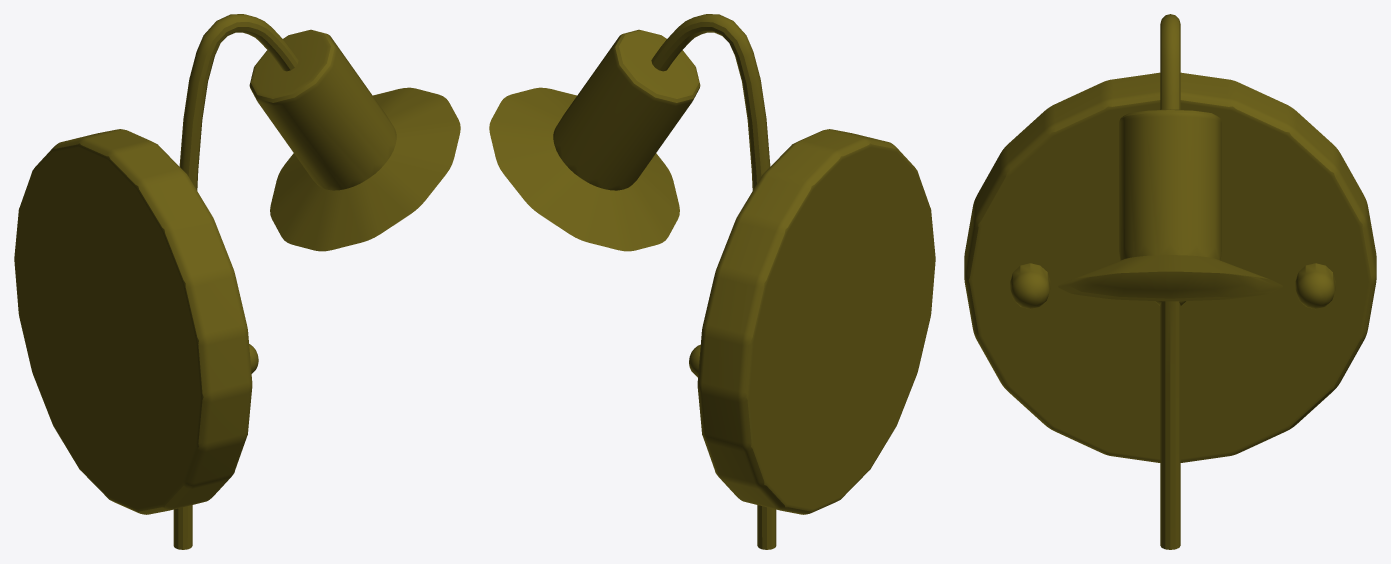
Rendered from lighting_4.fbx.
3 views of the same model, side by side, from view 1: azimuth 30°, elevation 25°; view 2: azimuth 150°, elevation 25°; view 3: azimuth 270°, elevation 25° (orthographic). The views are drawn at different scales.
Parts seen in each view (by area): view 1: pCylinder8; view 2: pCylinder8; view 3: pCylinder8.
Boxes of the visible parts, x1,y1,x2,y2 form: pCylinder8: (14,14,460,549); pCylinder8: (489,14,935,549); pCylinder8: (964,14,1376,549).
Size of the model in its own units: 0.0149 by 0.0219 by 0.0148.
